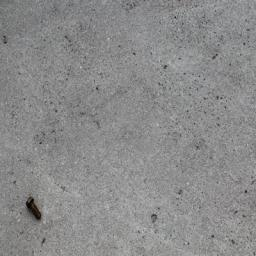FOD: (25, 196, 45, 222)
